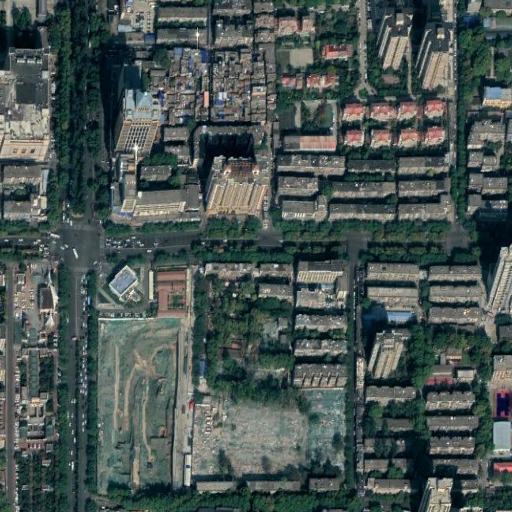cw: (96, 317, 178, 490), (190, 390, 343, 478)
